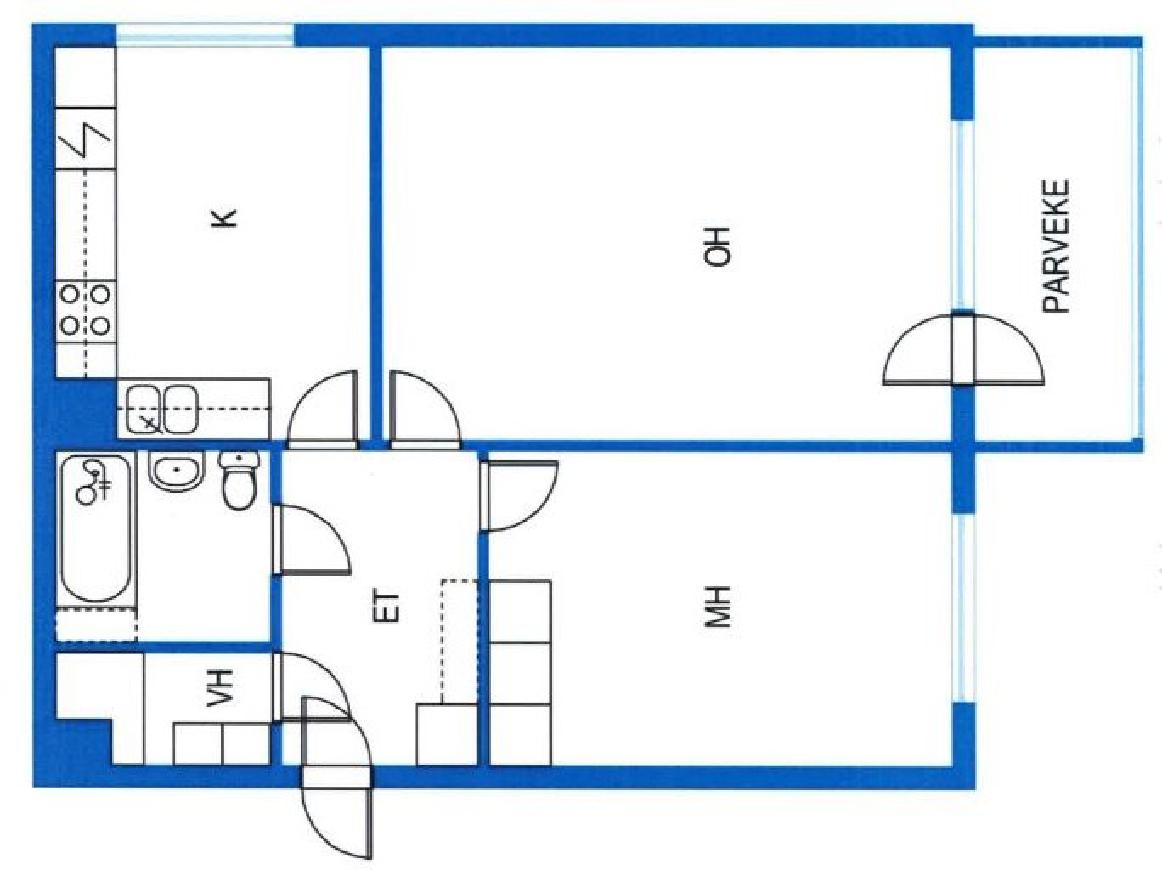door: (298, 695, 379, 868), (271, 504, 364, 587), (383, 367, 468, 457), (959, 312, 1050, 393), (874, 312, 961, 390), (264, 651, 354, 723), (474, 463, 562, 535), (293, 372, 356, 450)
window: (945, 510, 980, 702), (111, 23, 294, 50), (951, 124, 971, 313)
zone: (384, 46, 953, 438), (491, 449, 955, 765), (55, 40, 368, 441), (969, 50, 1133, 447), (280, 445, 475, 765), (51, 448, 271, 645), (55, 648, 268, 764)
